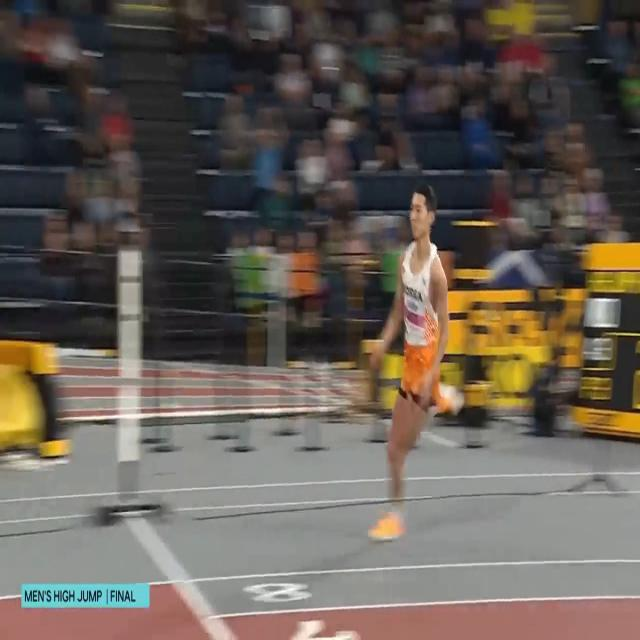run: (368, 178, 464, 546)
